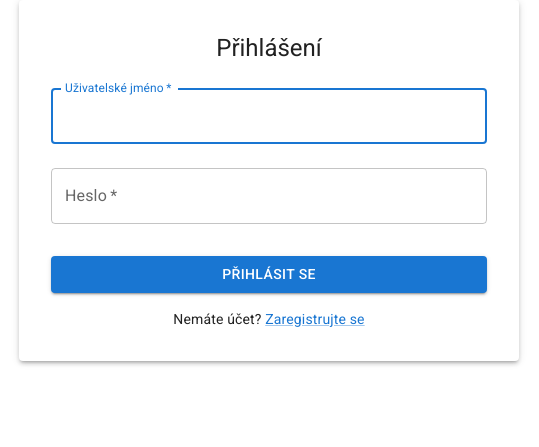
Test: LoginForm › zobrazí chybu při neúspěšném přihlášení
Type "testuser" into the field labelled "Uživatelské jméno *" at (269, 116), box left=51, top=88, right=487, bottom=144
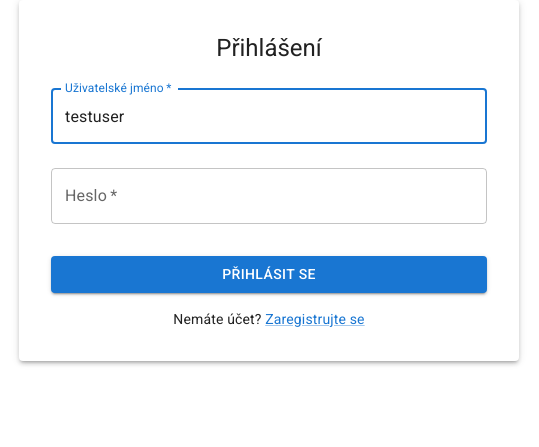
Type "wrongpassword" into the password field labelled "Heslo *" at (269, 196), box left=51, top=168, right=487, bottom=224
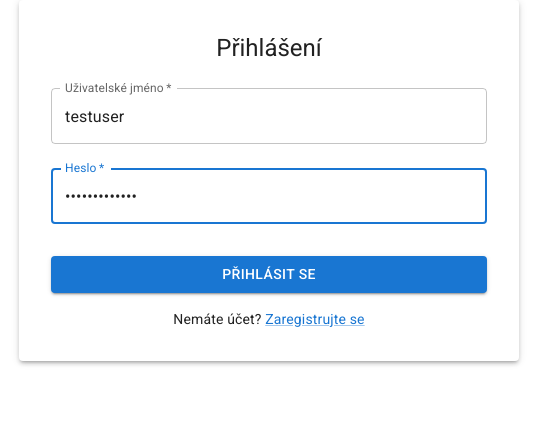
Click the button "Přihlásit se" at (269, 275), box left=51, top=256, right=487, bottom=293
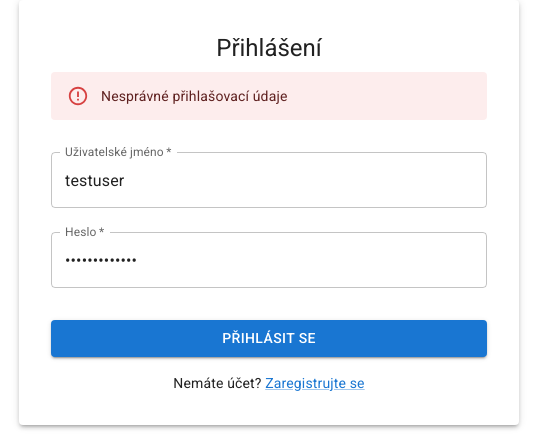
Check: the text "Nesprávné přihlašovací údaje" is shown, box left=101, top=88, right=288, bottom=104
